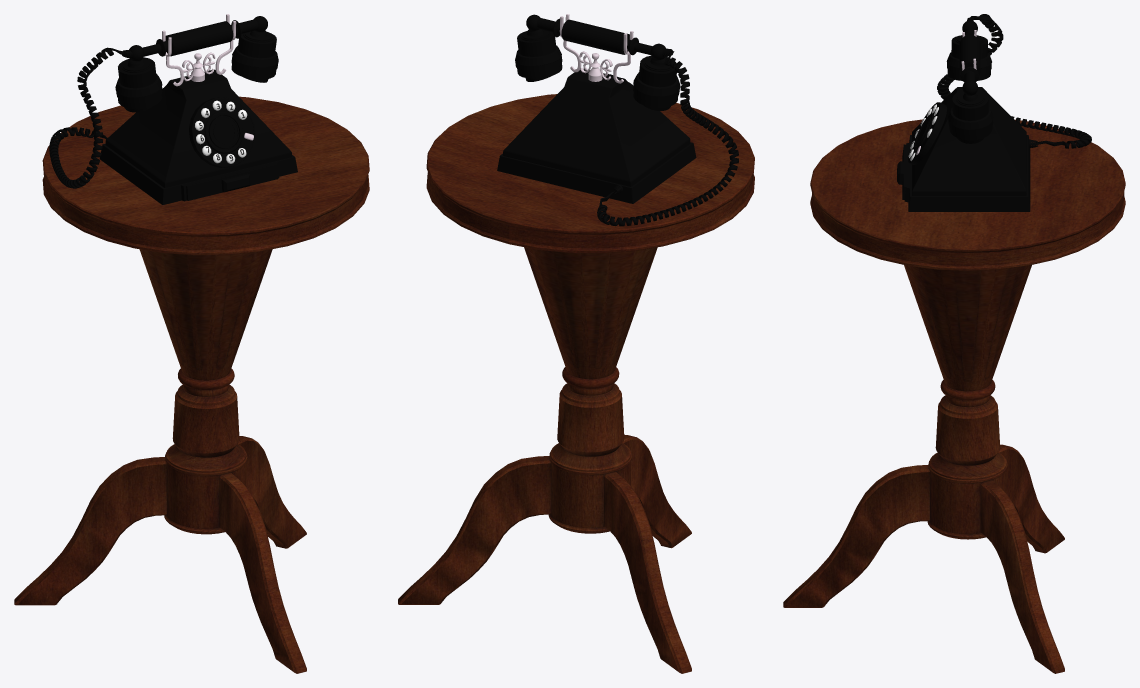
Rendered from Ritika Telephone.fbx.
3 views of the same model, side by side, from view 1: azimuth 30°, elevation 25°; view 2: azimuth 150°, elevation 25°; view 3: azimuth 270°, elevation 25° (orthographic). The views are drawn at different scales.
Visible parts, largest first — view 1: Coffee table, Phone; view 2: Coffee table, Phone; view 3: Coffee table, Phone.
Boxes of the visible parts, x1,y1,x2,y2 form: Coffee table: (14,96,369,673); Phone: (49,14,297,204); Coffee table: (398,94,754,673); Phone: (497,14,738,226); Coffee table: (783,119,1125,673); Phone: (897,14,1091,211).
Bounding box in the file's own units: 135 × 256 × 142.
